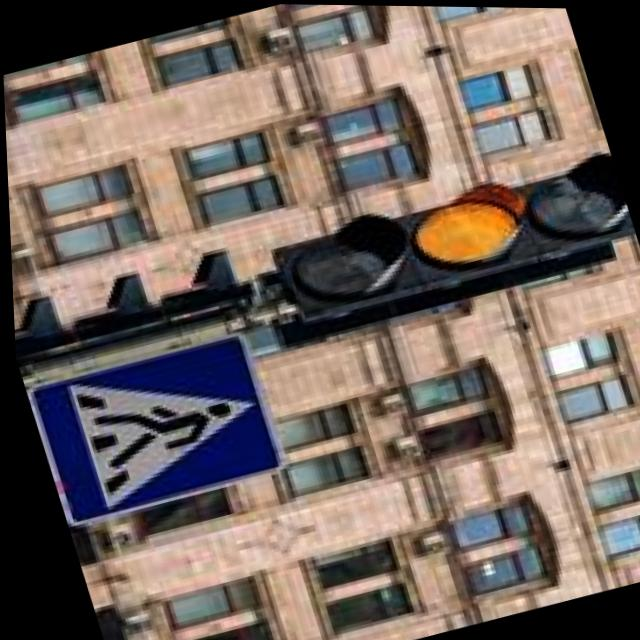yellow_light: (399, 158, 536, 286)
